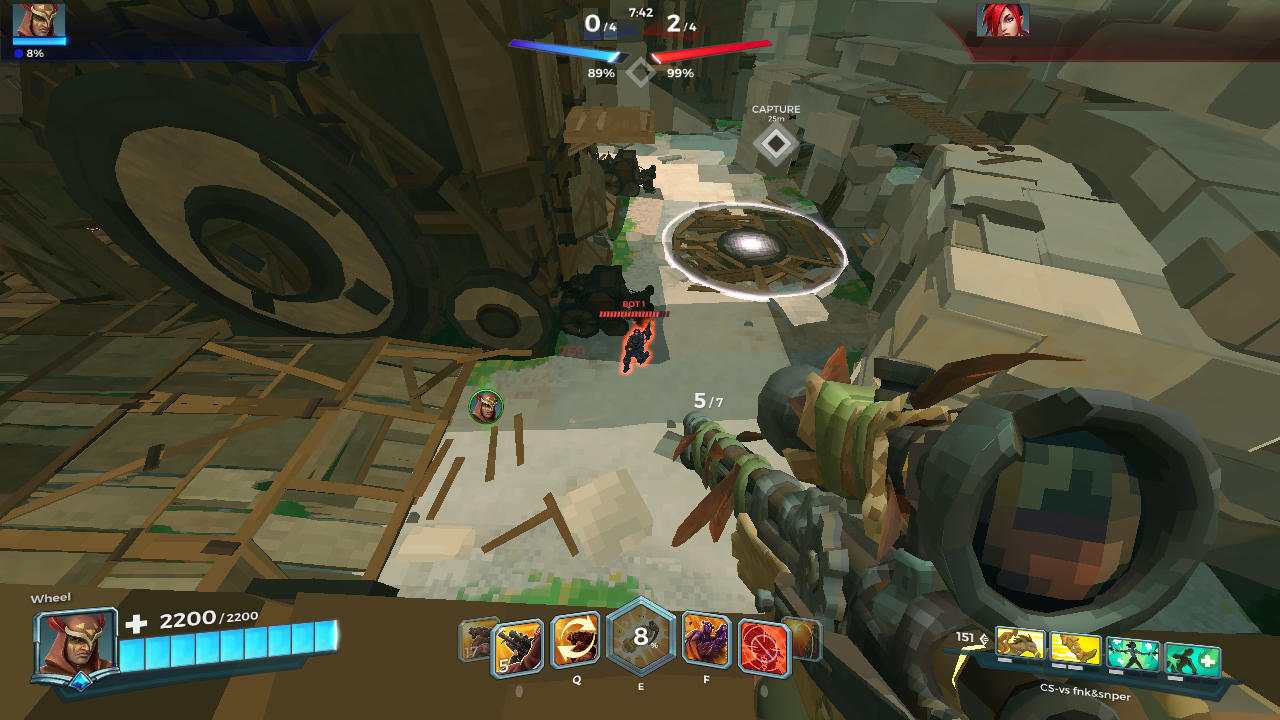model: (624, 322, 661, 379)
